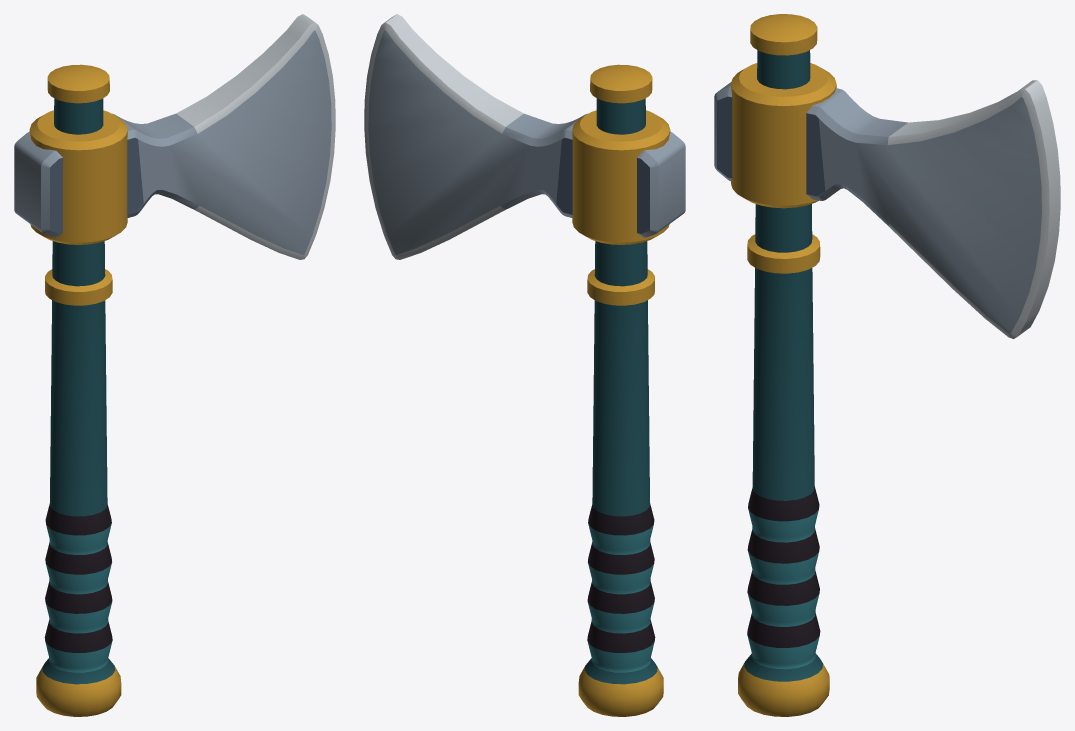
Rendered from Axe_20.glb.
3 renders of one model, left to right at view 1: azimuth 30°, elevation 25°; view 2: azimuth 150°, elevation 25°; view 3: azimuth 330°, elevation 25°, orthographic. The views are drawn at different scales.
Parts seen in each view (by area): view 1: Axe_20; view 2: Axe_20; view 3: Axe_20.
Boxes of the visible parts, x1,y1,x2,y2 form: Axe_20: (14,14,335,716); Axe_20: (364,14,685,716); Axe_20: (714,14,1060,716).
Size of the model in its own units: 2.33 by 4.62 by 0.654.
